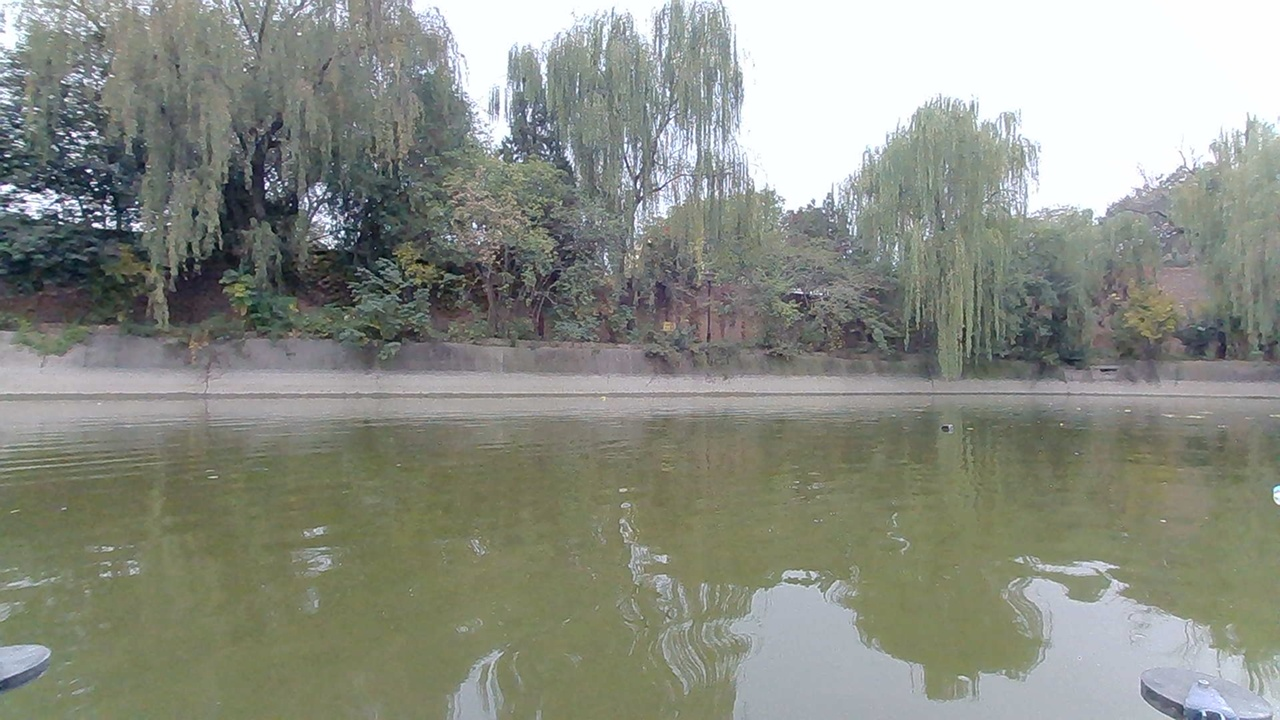bottle: (936, 412, 964, 438), (1259, 478, 1280, 507)
